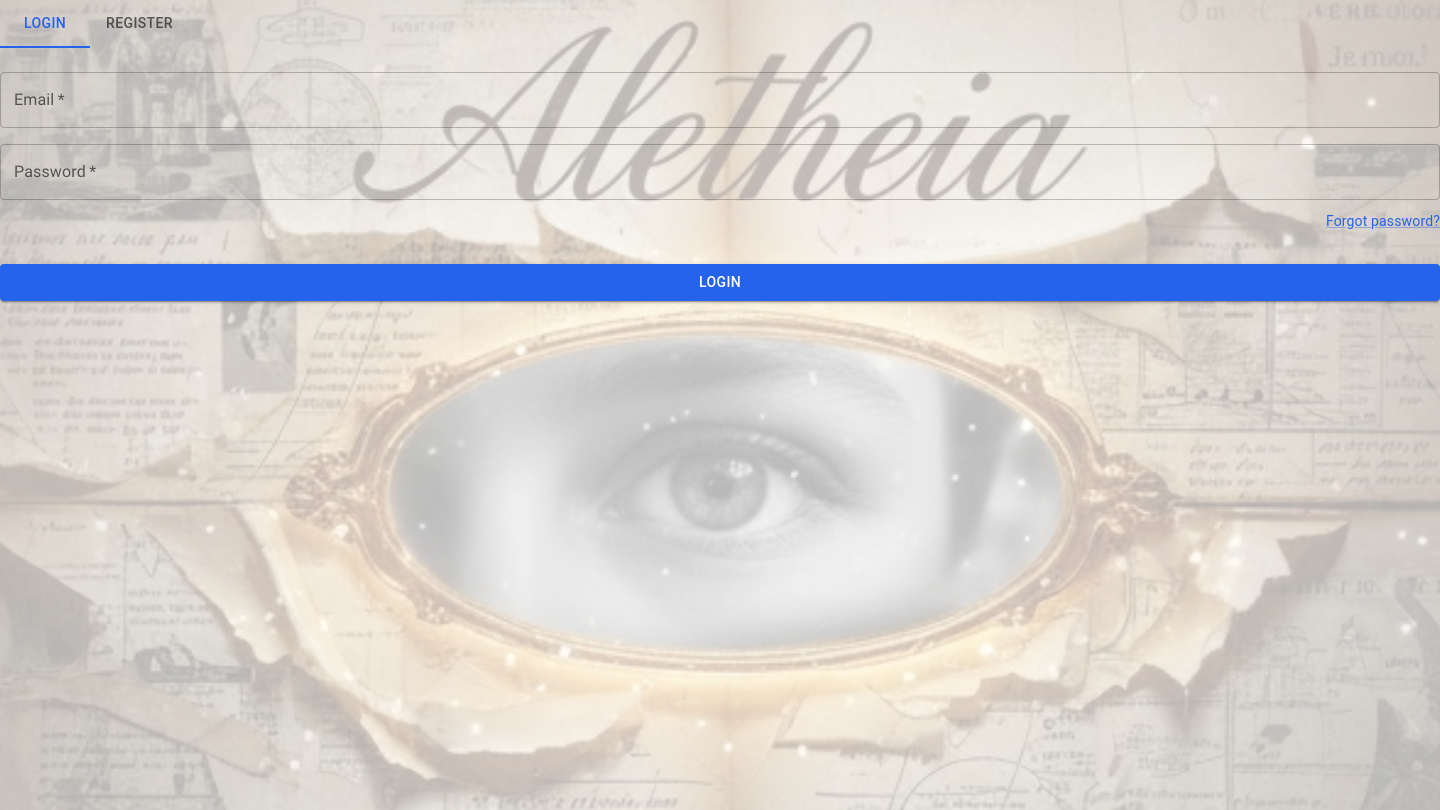
it: Authentication Flow Integration › Form Interactions › should open forgot password dialog from login form
This screenshot has width=1440, height=810.
Click the button "Forgot password?".
click(1383, 221)  # box top-left (1326, 211), bottom-right (1439, 231)
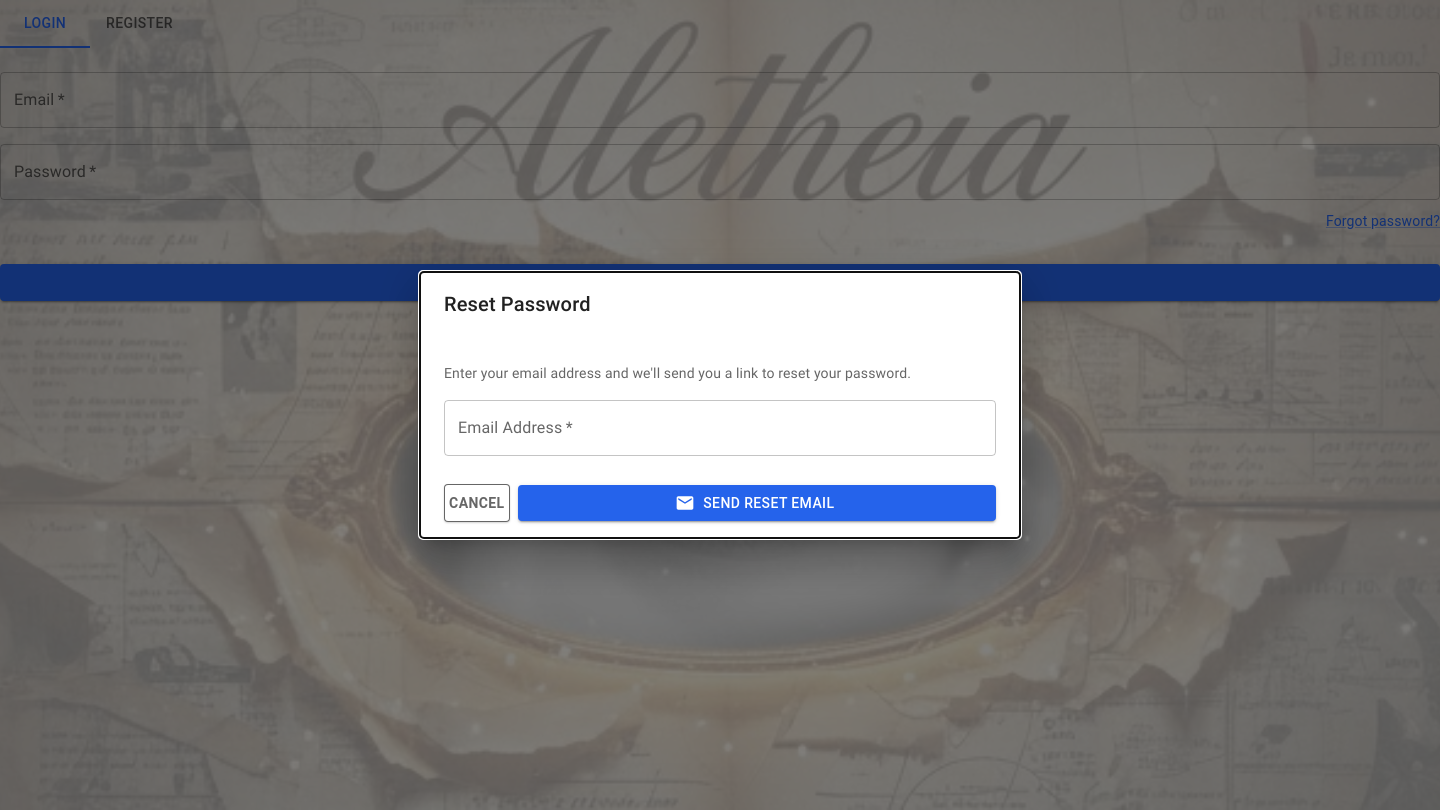
Now the heading "Reset Password" is shown, box top-left (444, 292), bottom-right (591, 316)
